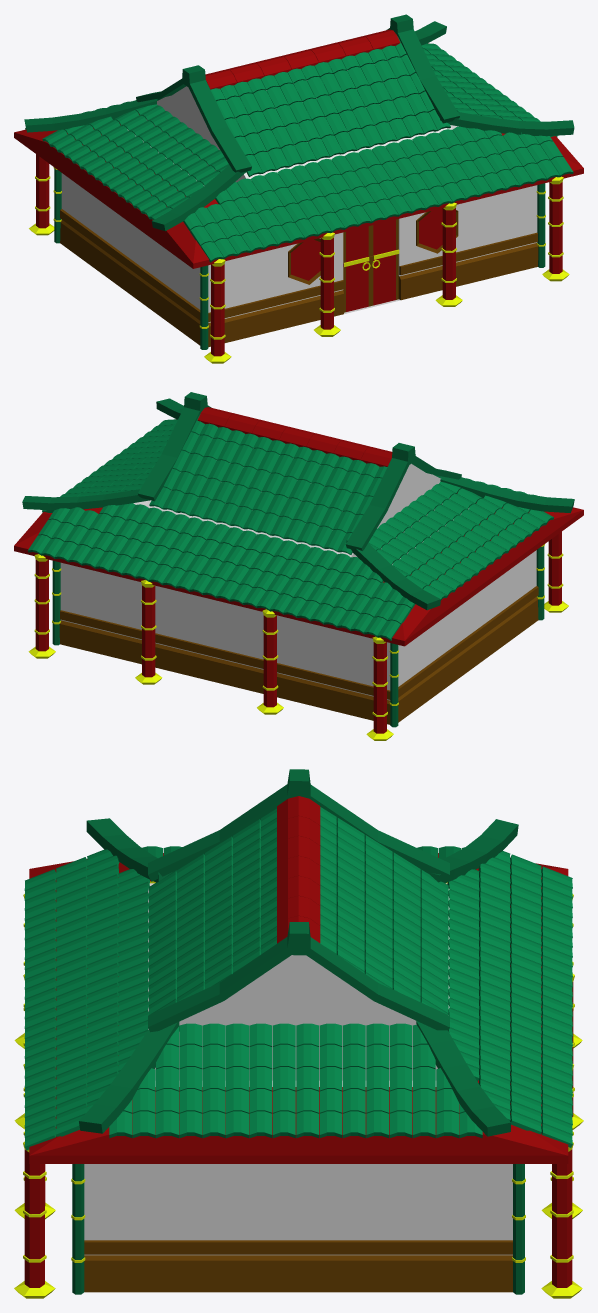
Rendered from Casa02_1.fbx.
3 views of the same model, one above another, from view 1: azimuth 30°, elevation 25°; view 2: azimuth 150°, elevation 25°; view 3: azimuth 270°, elevation 25° (orthographic). The views are drawn at different scales.
Parts seen in each view (by area): view 1: Telhado.002, House.002; view 2: Telhado.002, House.002; view 3: Telhado.002, House.002.
Part boxes in pixels (left/top/right/bottom): Telhado.002: left=24, top=14, right=574, bottom=262; House.002: left=14, top=43, right=583, bottom=363; Telhado.002: left=22, top=392, right=574, bottom=640; House.002: left=14, top=419, right=583, bottom=740; Telhado.002: left=24, top=769, right=572, bottom=1150; House.002: left=14, top=853, right=583, bottom=1298.
Size of the model in its own units: 10.14 by 4.84 by 7.9.
